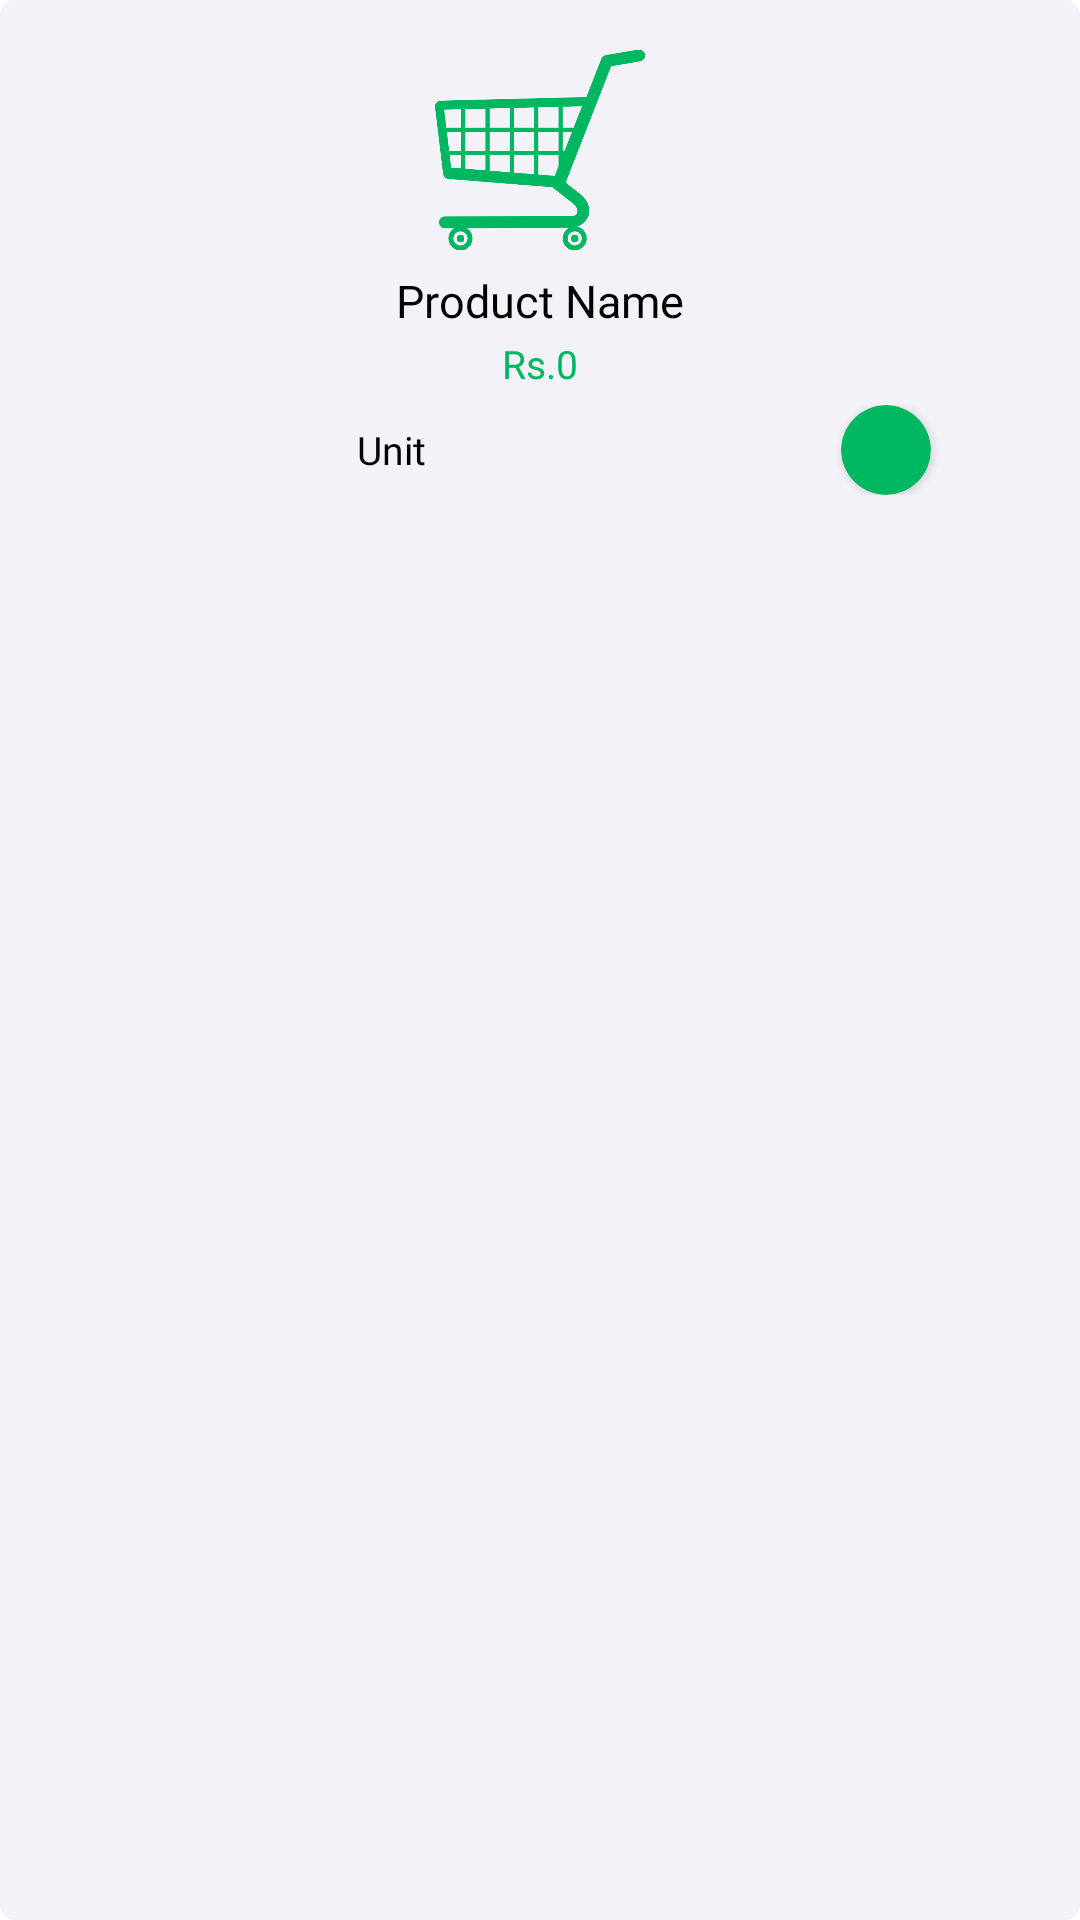

Screen size 1080x1920. Icon name, then its box in pixels as [x1, y1, x2, y2]:
cart: [435, 50, 645, 250]
